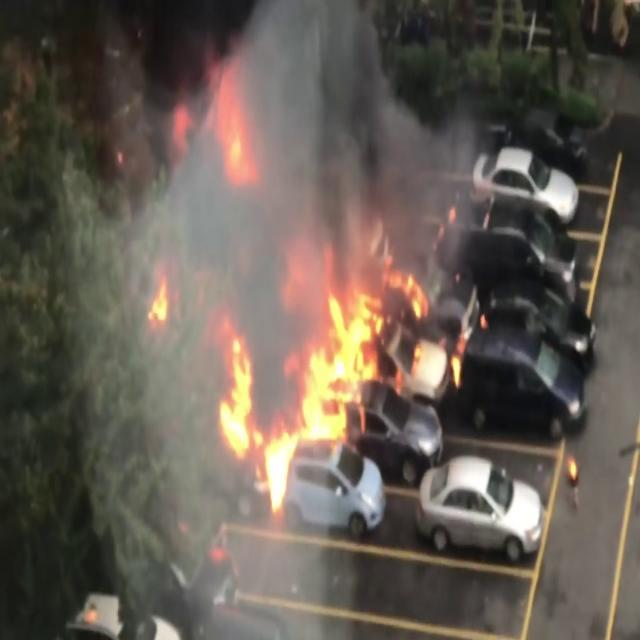Fire: (289, 232, 448, 444), (216, 324, 298, 498), (149, 278, 171, 330)
Smoke: (65, 0, 468, 327)
